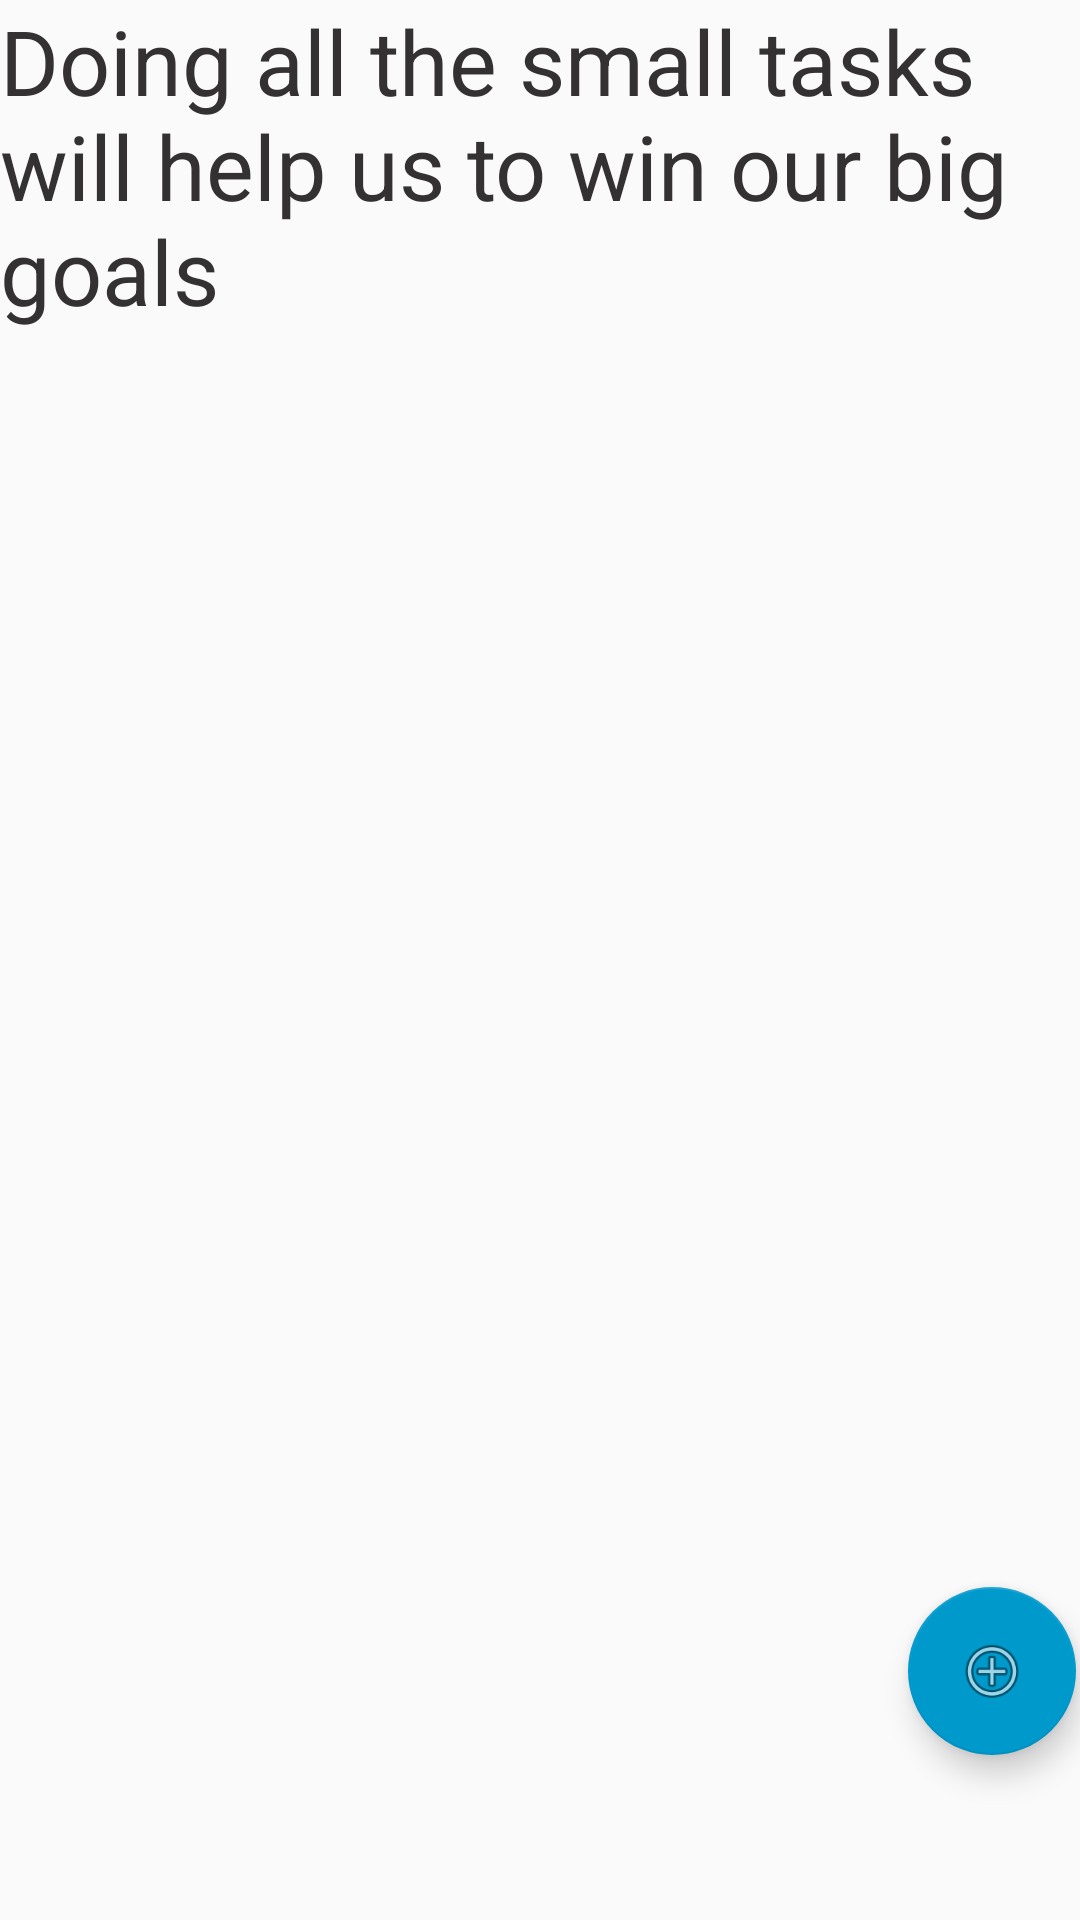

Where icons sit on this 1080 × 1920 app screen, as detection(x1, y1, x2, y2):
add: detection(908, 1587, 1076, 1755)
